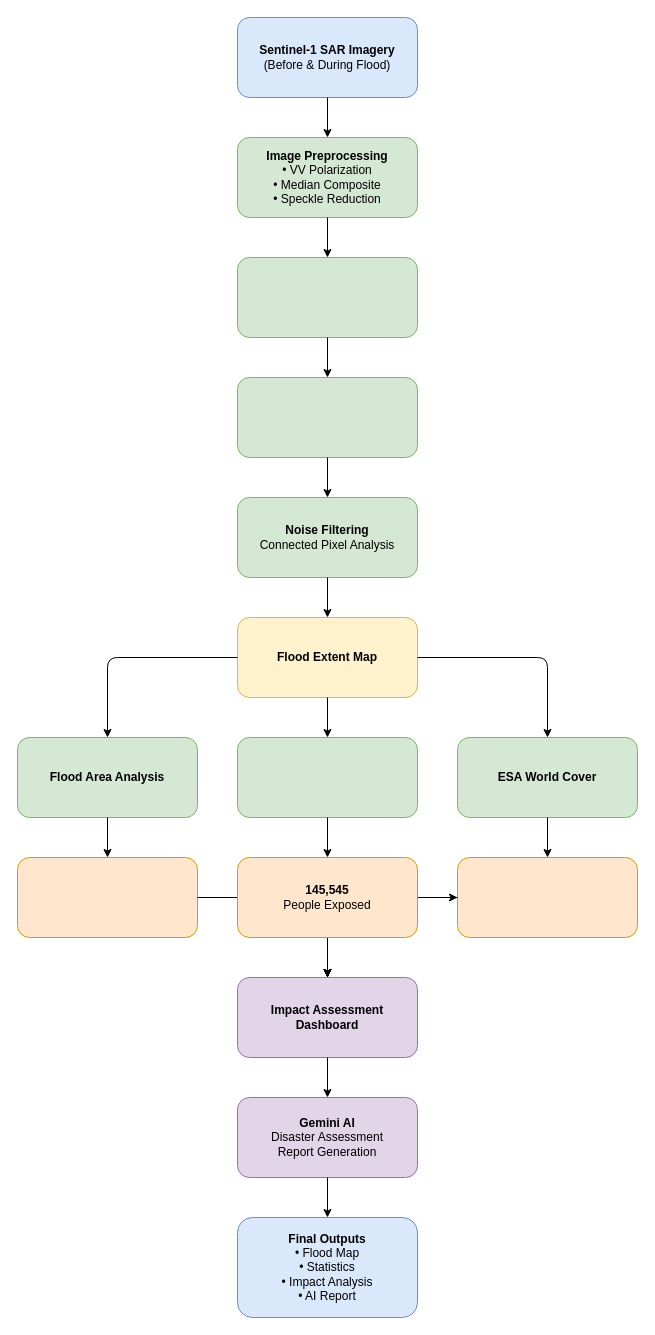
The diagram is 655 pixels wide and 1335 high, and some of its shapes have lost their labels. Here are the shapes that lost their labels. From the top down, the centre of each, then its label:
At pixel 327 297: "Flood Detection Ratio Change Analysis (After / Before)".
At pixel 327 417: "Water Body Removal JRC Global Surface Water Dataset".
At pixel 327 777: "WorldPop Analysis".
At pixel 107 897: "129.30 km² Flooded Area".
At pixel 547 897: "Land Cover Exposed • Cropland • Urban • Forest".
